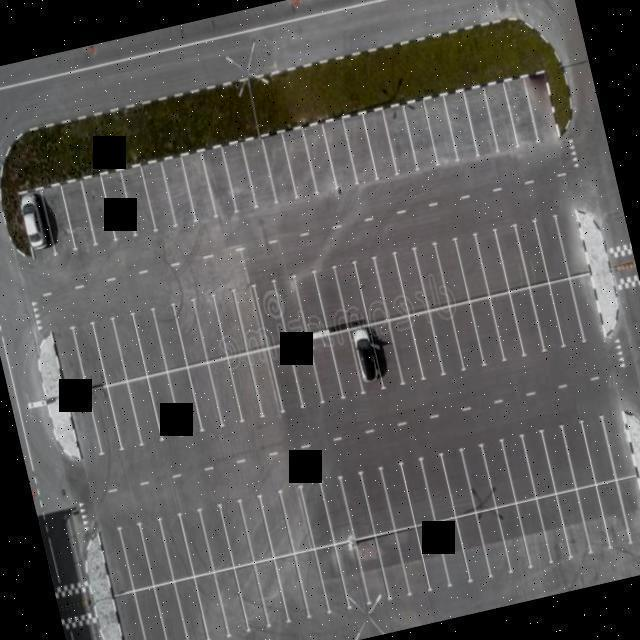space-empty: (145, 367, 191, 443), (591, 473, 635, 552), (573, 479, 616, 558), (472, 502, 514, 582), (300, 118, 343, 196), (371, 526, 413, 605), (532, 489, 574, 568), (100, 168, 141, 248), (446, 295, 488, 373), (452, 508, 494, 586), (278, 124, 318, 204), (553, 486, 594, 564), (492, 498, 533, 576), (391, 523, 432, 601), (513, 495, 554, 573), (412, 518, 453, 596), (270, 549, 312, 625), (310, 540, 352, 616), (350, 531, 392, 607), (544, 275, 587, 349), (118, 164, 159, 241), (505, 283, 547, 358), (292, 545, 334, 620), (264, 334, 304, 412), (285, 330, 324, 410), (260, 131, 300, 209), (166, 365, 207, 441), (321, 114, 362, 190), (210, 286, 252, 360), (210, 564, 252, 638), (331, 536, 373, 610), (340, 109, 379, 188), (308, 327, 348, 404), (459, 82, 499, 159), (525, 279, 566, 354), (231, 560, 272, 635), (252, 553, 293, 628), (432, 512, 471, 590), (387, 311, 427, 387), (327, 326, 367, 402), (187, 356, 227, 432), (225, 350, 265, 426), (486, 287, 526, 363), (420, 93, 460, 169), (358, 106, 398, 182), (400, 96, 440, 172), (480, 80, 520, 156), (502, 75, 542, 151), (406, 310, 447, 384), (467, 294, 508, 368), (599, 408, 640, 482), (190, 568, 232, 640), (577, 415, 619, 487), (76, 170, 115, 247), (199, 144, 238, 221), (244, 346, 284, 421), (40, 181, 80, 256), (557, 418, 598, 491), (95, 524, 136, 597), (139, 160, 178, 236), (380, 102, 419, 178), (238, 135, 277, 211), (365, 315, 403, 393), (220, 140, 259, 216), (59, 179, 99, 253), (179, 150, 219, 224), (440, 88, 480, 162), (418, 452, 459, 524), (205, 355, 244, 430), (159, 154, 198, 229), (117, 520, 157, 593), (426, 305, 465, 379), (104, 379, 143, 453), (398, 455, 438, 527), (478, 436, 518, 508), (356, 464, 396, 536), (83, 385, 123, 457), (538, 424, 578, 496), (531, 213, 571, 285), (126, 374, 164, 449), (276, 485, 316, 556), (518, 428, 558, 499), (500, 431, 540, 502), (191, 292, 230, 364), (452, 232, 491, 304), (129, 307, 168, 379), (257, 488, 296, 560), (171, 298, 211, 368), (49, 324, 89, 394), (237, 492, 276, 563), (432, 237, 472, 306), (295, 477, 335, 546), (198, 501, 236, 573), (90, 316, 128, 388), (158, 509, 196, 581), (67, 387, 105, 459), (371, 251, 410, 321), (411, 240, 450, 310), (109, 312, 148, 382), (438, 448, 477, 518), (218, 498, 257, 568), (338, 468, 377, 538), (512, 218, 551, 288), (170, 573, 211, 639), (458, 442, 497, 511), (230, 285, 268, 355), (492, 221, 530, 291), (150, 303, 188, 373), (378, 461, 416, 531), (317, 473, 355, 543), (136, 515, 174, 585), (291, 269, 330, 337), (393, 248, 431, 317), (70, 321, 108, 390), (176, 507, 214, 576), (272, 272, 309, 342), (474, 229, 512, 297), (252, 281, 289, 350), (314, 265, 352, 332), (350, 256, 388, 323), (334, 260, 371, 328), (150, 579, 191, 640), (130, 583, 172, 640), (612, 468, 640, 547)
space-occupied: (346, 317, 384, 396), (15, 184, 54, 260)
